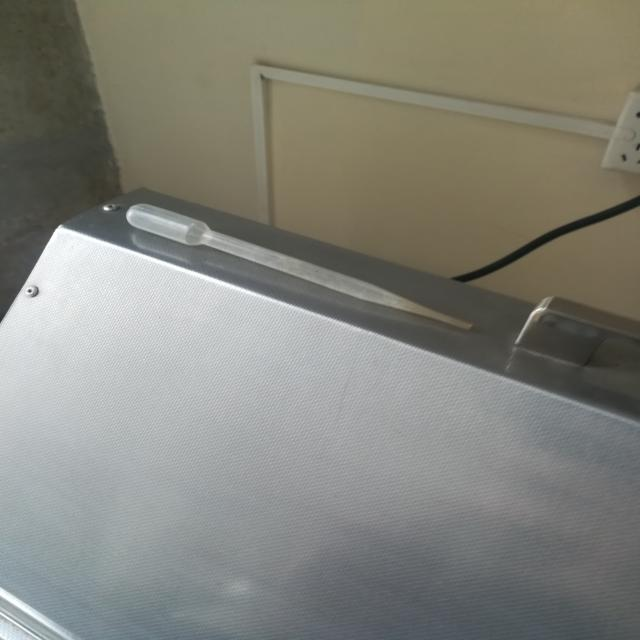Pipette: (87, 170, 500, 366)
